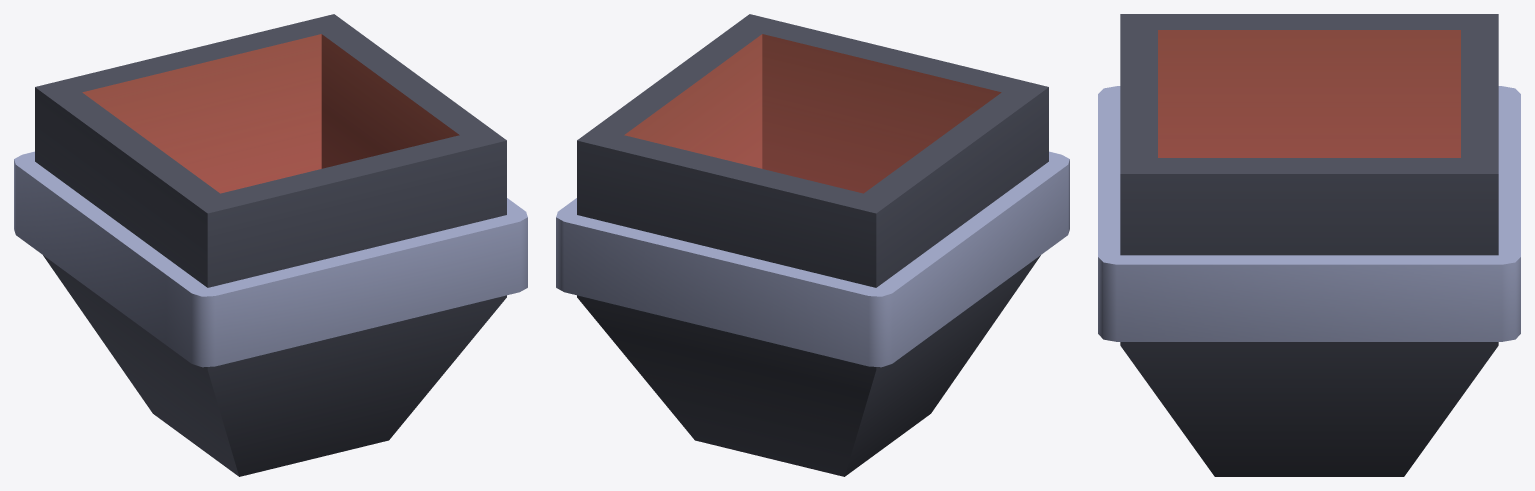
The model's file is hopper-square.obj.
3 views of the same model, side by side, from view 1: azimuth 30°, elevation 25°; view 2: azimuth 150°, elevation 25°; view 3: azimuth 270°, elevation 25° (orthographic). The views are drawn at different scales.
Visible parts, largest first — view 1: hopper-square; view 2: hopper-square; view 3: hopper-square.
Boxes of the visible parts, box(x1,y1,x2,y2) form: hopper-square: box(14, 14, 527, 476); hopper-square: box(556, 14, 1069, 476); hopper-square: box(1098, 14, 1520, 476).
Size of the model in its own units: 1.12 by 1 by 1.12.
